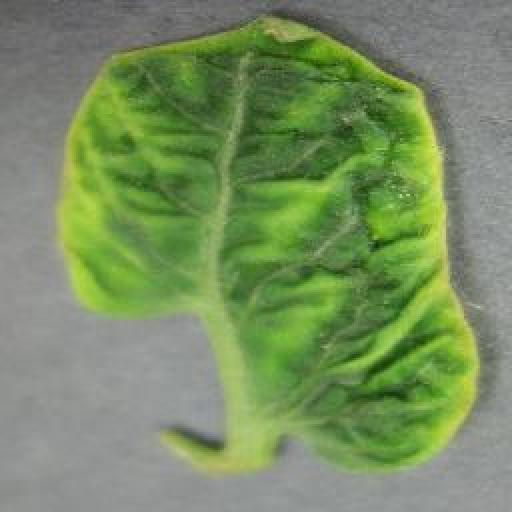disease_tomato: (51, 13, 477, 476)
